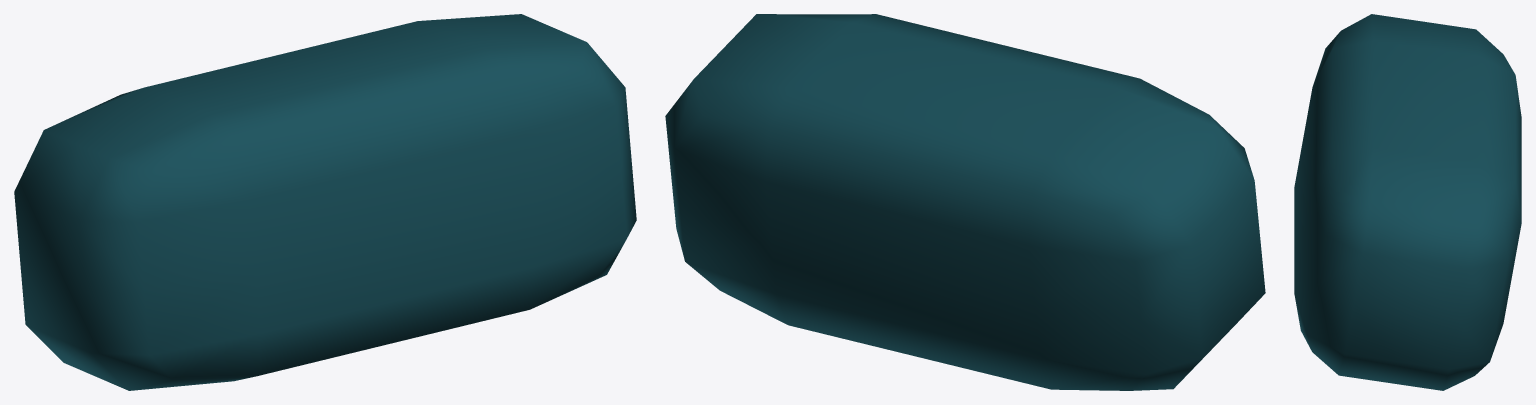
File: SacCouchage.fbx
3 views of the same model, side by side, from view 1: azimuth 30°, elevation 25°; view 2: azimuth 150°, elevation 25°; view 3: azimuth 270°, elevation 25° (orthographic). The views are drawn at different scales.
Parts seen in each view (by area): view 1: polySurface39; view 2: polySurface39; view 3: polySurface39.
Boxes of the visible parts, left/top/right/bottom form: polySurface39: left=14, top=14, right=636, bottom=390; polySurface39: left=665, top=14, right=1265, bottom=390; polySurface39: left=1294, top=14, right=1521, bottom=390.
Bounding box in the file's own units: 7.2 × 3.39 × 3.24.
